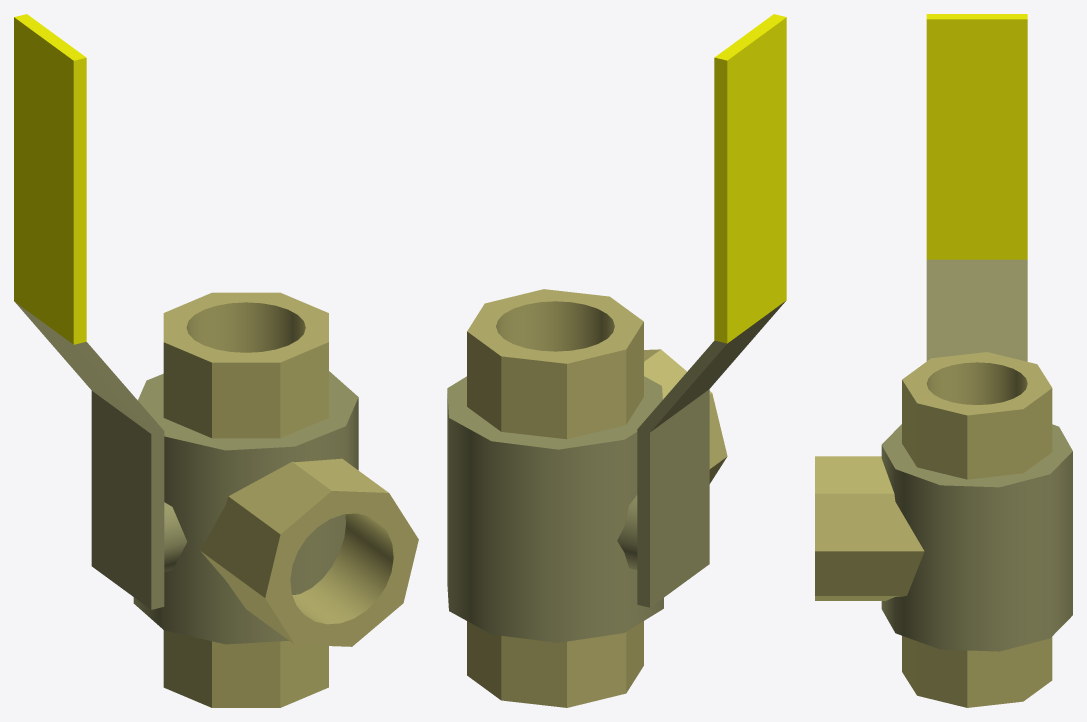
The model's file is ball_valve.dae.
3 views of the same model, side by side, from view 1: azimuth 30°, elevation 25°; view 2: azimuth 150°, elevation 25°; view 3: azimuth 270°, elevation 25° (orthographic). The views are drawn at different scales.
Parts seen in each view (by area): view 1: Ball_Valve, Group1; view 2: Ball_Valve, Group1; view 3: Ball_Valve, Group1.
Boxes of the visible parts, x1=… form: Ball_Valve: x1=133, y1=292, x2=418, y2=707; Group1: x1=14, y1=14, x2=187, y2=609; Ball_Valve: x1=447, y1=289, x2=727, y2=707; Group1: x1=617, y1=14, x2=786, y2=607; Ball_Valve: x1=815, y1=352, x2=1072, y2=707; Group1: x1=926, y1=14, x2=1027, y2=361.
Size of the model in its own units: 2.88 by 2.55 by 6.32.
